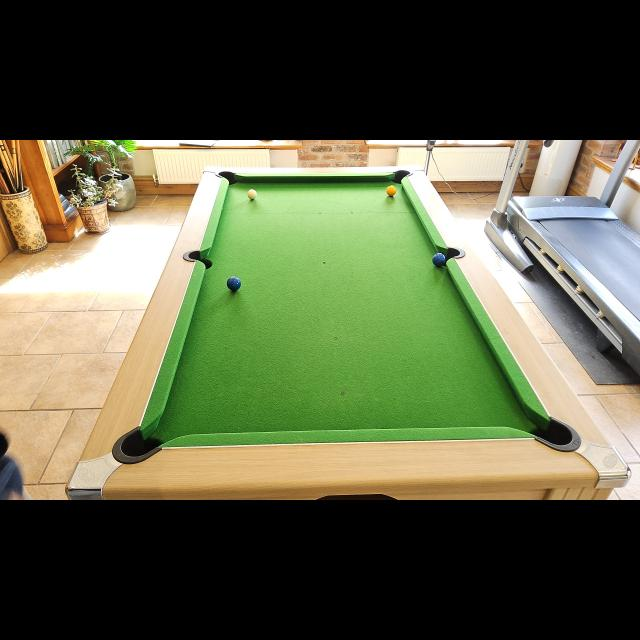Ball: (226, 276, 242, 292), (432, 254, 446, 266), (386, 185, 396, 197), (247, 190, 257, 200)
